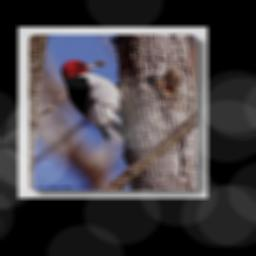Woodpecker: (60, 59, 129, 142)
